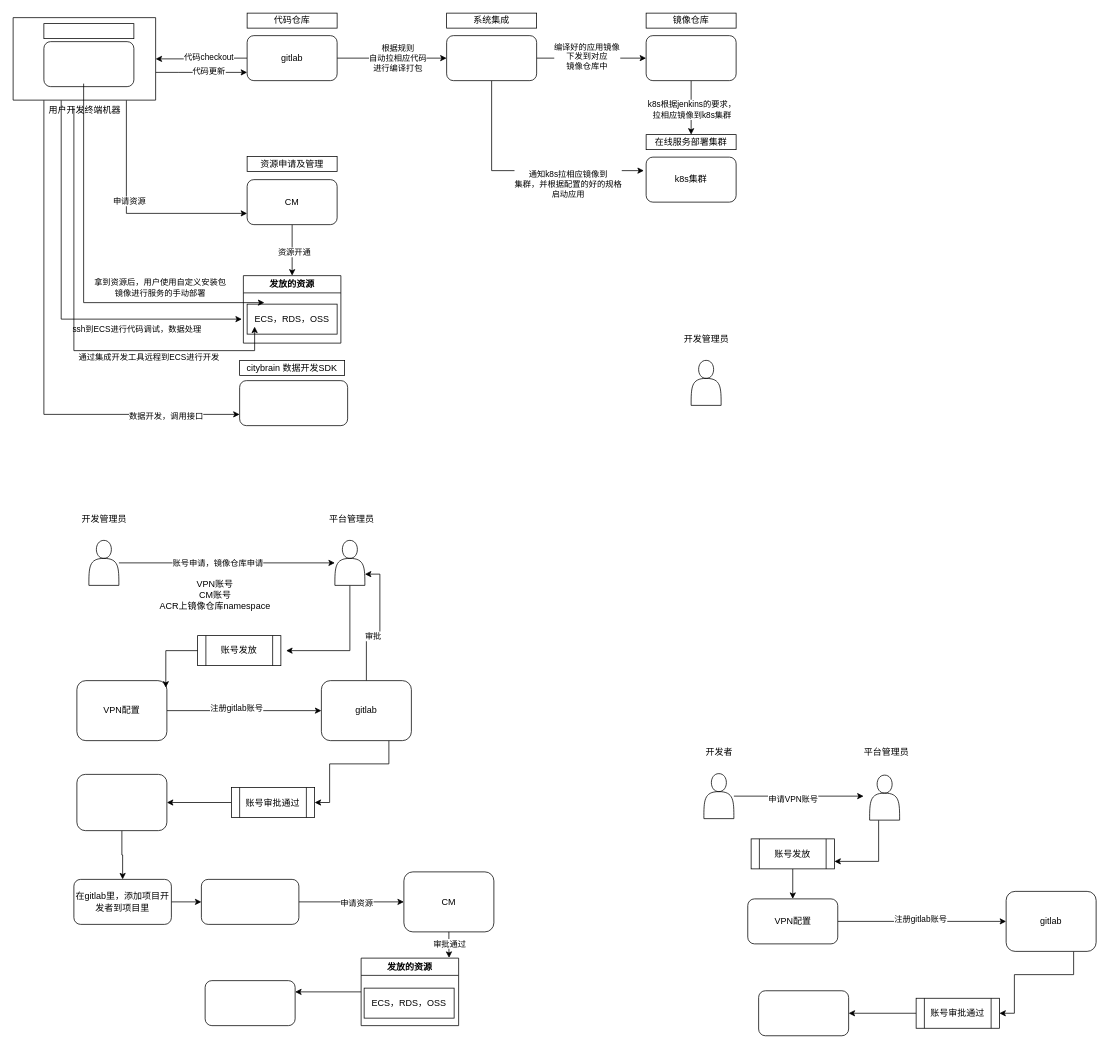
Image size: 1109x1049. Some labels were removed from this diagram. Each missing label, with the centre of its shape:
ACR: point 690,58
citybrain platform python SDK: point 293,403
git 客户端: point 88,64
git客户端: point 88,31
jenkins: point 491,58
使用git 客户端进行代码的开发: point 803,1013
创建gitlab project: point 121,802
在gitlab里，对不同的开发者赋予不同分支权限: point 250,901
系统的部署或 开发管理: point 249,1003
